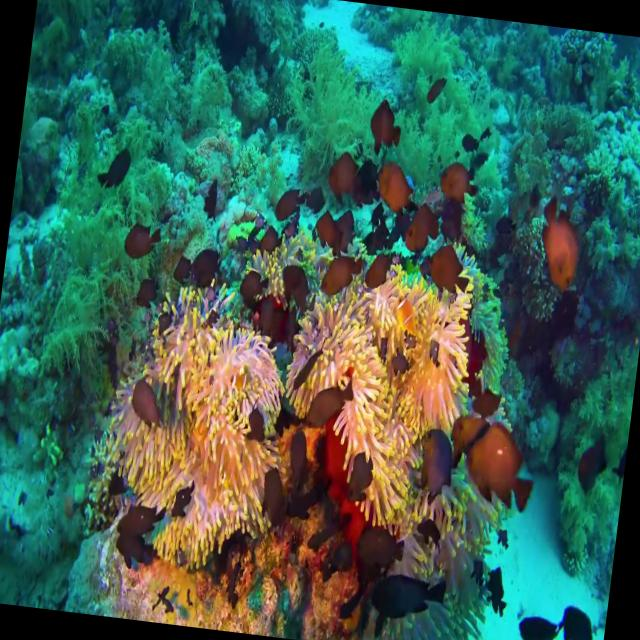fish: (438, 386, 551, 528), (352, 562, 450, 640), (526, 190, 590, 302), (402, 418, 462, 520), (339, 421, 390, 515), (244, 451, 296, 538), (300, 369, 366, 437), (116, 374, 176, 446), (86, 124, 142, 196), (342, 516, 412, 572), (350, 228, 399, 301), (421, 241, 476, 304), (108, 483, 165, 543), (432, 145, 488, 204), (180, 237, 223, 310), (230, 394, 276, 462), (356, 94, 411, 150), (245, 288, 292, 348), (118, 212, 170, 266), (312, 250, 356, 310), (322, 141, 362, 204), (369, 162, 412, 218), (300, 204, 348, 254), (283, 419, 319, 482), (189, 168, 225, 230), (156, 474, 198, 525), (555, 596, 600, 640), (513, 600, 559, 640), (268, 172, 306, 212)
